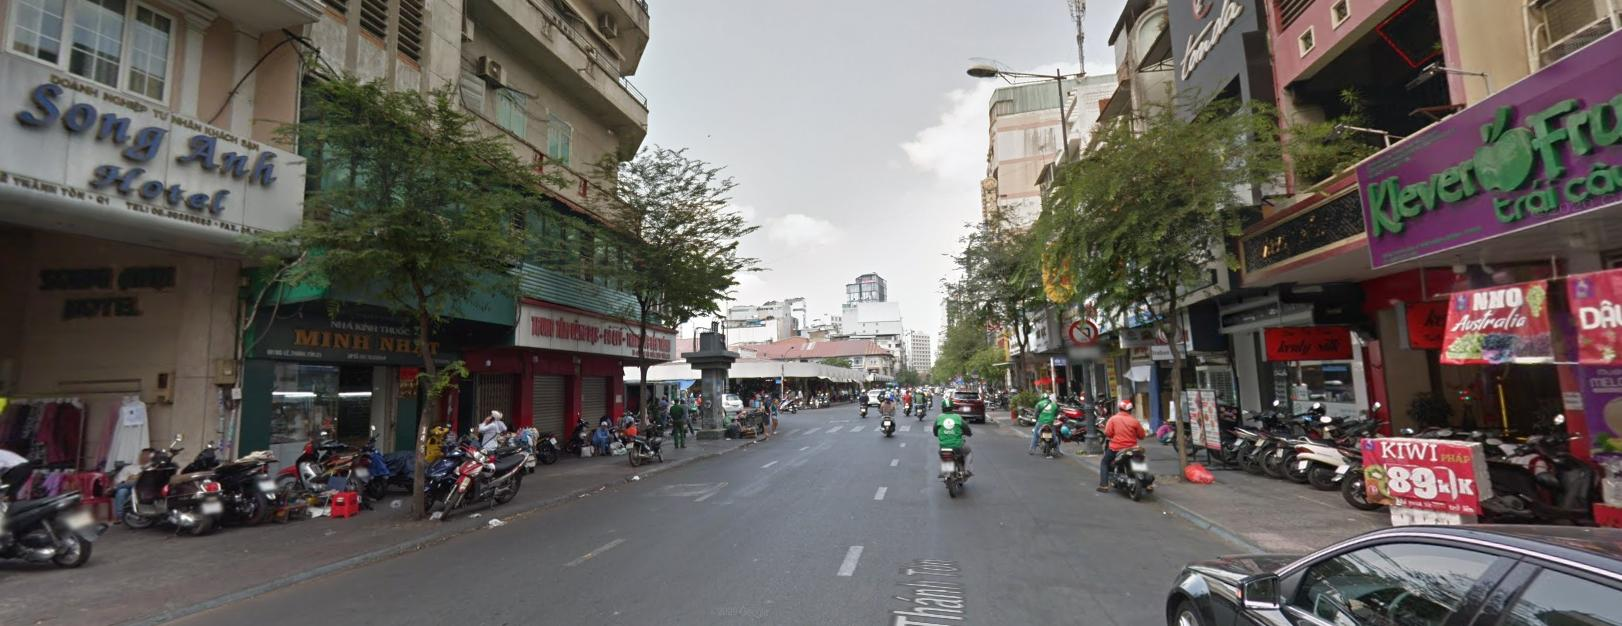Cam re: (1064, 315, 1102, 345)
